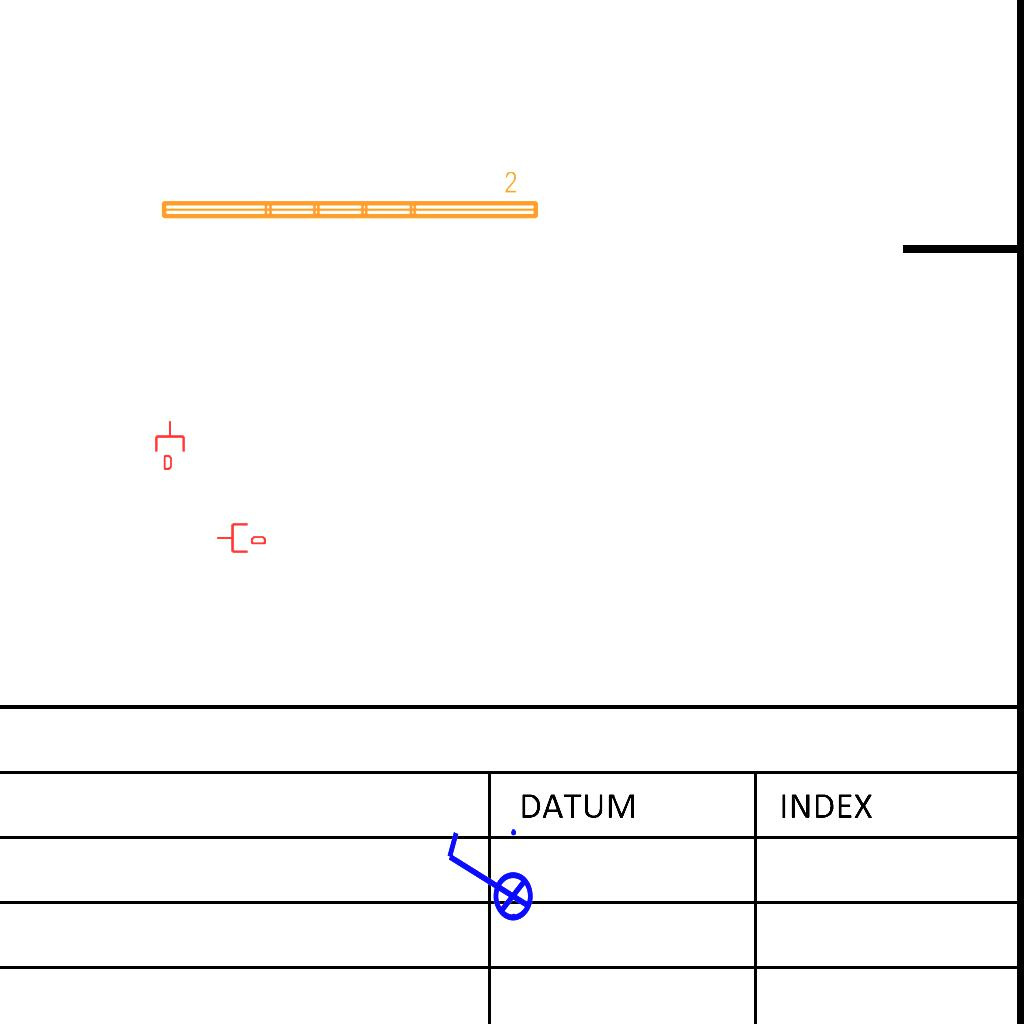Ambulanz_Pendelleuchte_LED: (156, 169, 543, 225)
Ausschalter_beleuchtet: (439, 823, 535, 935)
Datenanschluss_einfach: (153, 420, 187, 470), (216, 521, 266, 555)
